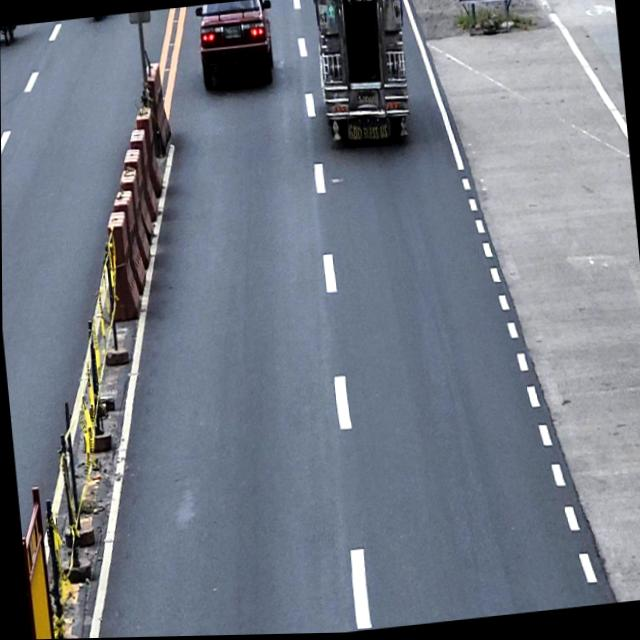Car: (194, 0, 280, 96)
Jeep: (312, 0, 414, 158)
License-Plate: (357, 90, 378, 109), (223, 26, 242, 41)
